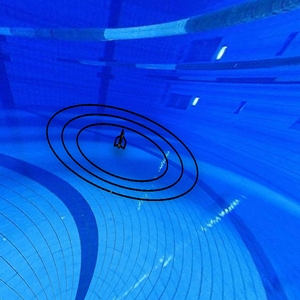circle: (37, 100, 205, 210)
submarine: (109, 126, 135, 156)
